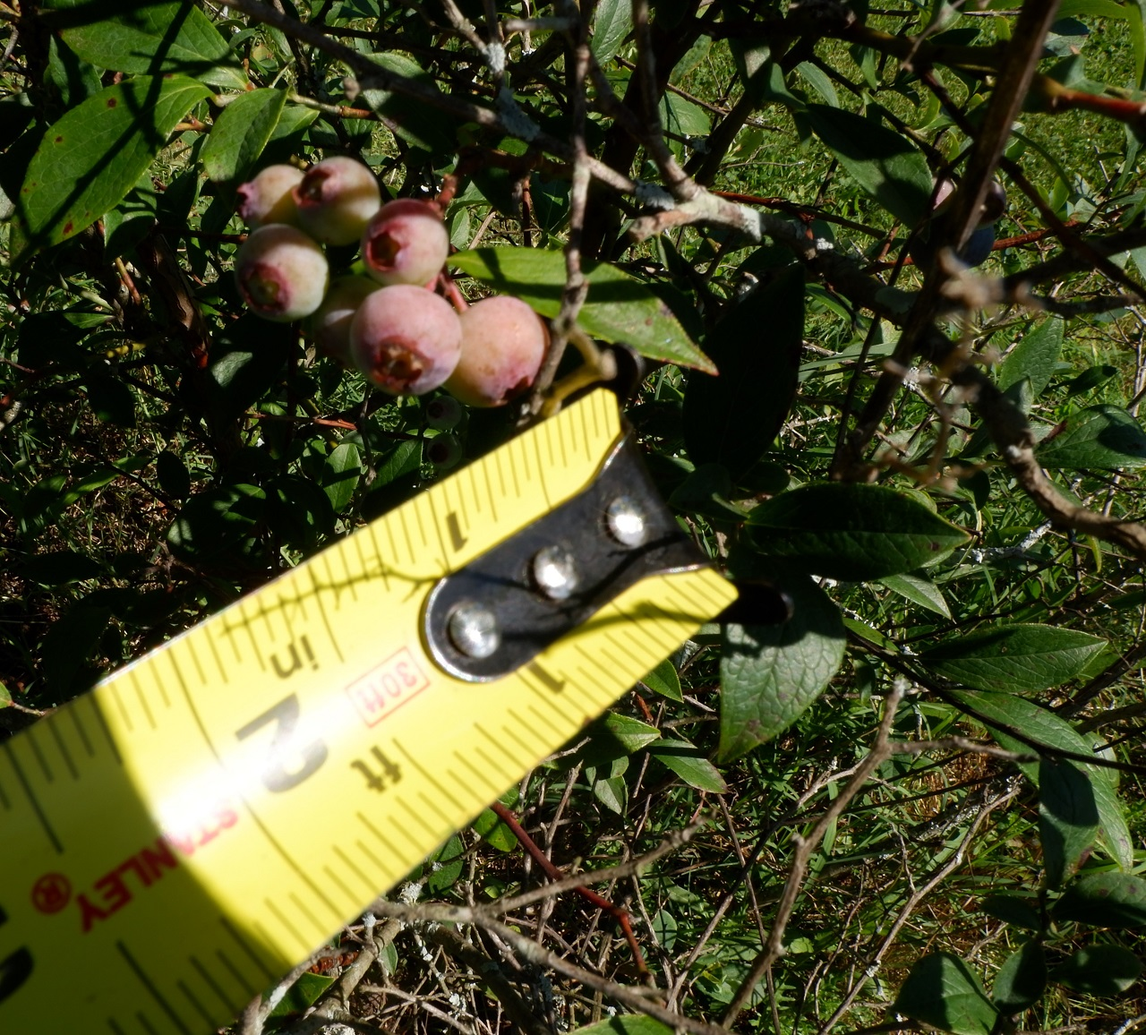Immature: (350, 285, 465, 397), (441, 295, 552, 407), (234, 224, 330, 321), (293, 156, 381, 246), (362, 199, 449, 287), (312, 276, 382, 370), (238, 164, 307, 233)
